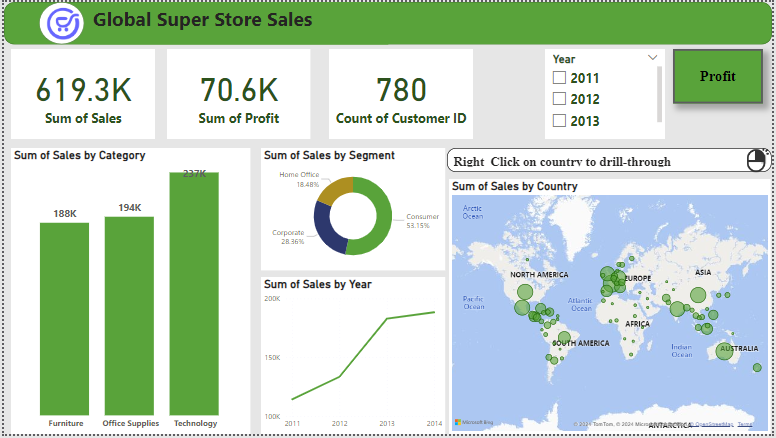

Layout of this report page (visuals, bound fields, positions):
{"tool":"powerbi","page":{"name":"Sales","canvas":[1280,720],"ordinal":0},"visuals":[{"type":"card","fields":{"Values":["Sum(Orders.Sales)"]},"box":[11.5,77.8,240.5,149.8],"z":0},{"type":"card","fields":{"Values":["Sum(Orders.Profit)"]},"box":[272.2,77.8,239,149.8],"z":1000},{"type":"card","fields":{"Values":["Count(Orders.Customer ID)"]},"box":[541.4,77.8,240.5,149.8],"z":2000},{"type":"columnChart","fields":{"Y":["Sum(Orders.Sales)"],"Category":["Orders.Category Hierarchy.Category","Orders.Category Hierarchy.Sub-Category","Orders.Category Hierarchy.Product Name"]},"box":[11.5,243.4,398.9,476.6],"z":3000},{"type":"donutChart","fields":{"Y":["Sum(Orders.Sales)"],"Category":["Orders.Segment"]},"box":[427.7,243.4,306.7,204.5],"z":4000},{"type":"lineChart","fields":{"Category":["Orders.Order Date.Variation.Date Hierarchy.Year","Orders.Order Date.Variation.Date Hierarchy.Quarter","Orders.Order Date.Variation.Date Hierarchy.Month","Orders.Order Date.Variation.Date Hierarchy.Day"],"Y":["Sum(Orders.Sales)"]},"box":[427.7,457.9,306.7,262.1],"z":5000},{"type":"map","fields":{"Category":["Orders.Country"],"Size":["Sum(Orders.Sales)"]},"box":[741.6,295.2,535.7,424.8],"z":6000},{"type":"shape","box":[0,0,1280,70.9],"z":7000},{"type":"textbox","box":[142.8,0,497.2,70.6],"z":8000},{"type":"image","box":[50.7,0,84.4,70.9],"z":9000},{"type":"image","box":[60.5,65.6,74.3,3.5],"z":10000},{"type":"shape","box":[58.8,0,75.6,70.6],"z":11000},{"type":"image","box":[54.7,1.4,87.8,69.1],"z":12000},{"type":"slicer","fields":{"Values":["Orders.Order Date.Variation.Date Hierarchy.Year"]},"box":[901.4,77.8,200.2,149.8],"z":13000},{"type":"actionButton","box":[1114.6,77.8,149.8,90.7],"z":14002},{"type":"textbox","box":[738.7,243.4,541.4,40.3],"z":14003},{"type":"image","box":[1229.8,236.2,50.4,53.3],"z":14004}]}

Visuals, with their boxes in screenshot pixels (x1, y1, x2, y2), scaled from the page's 1280x720 canvas onto the 776x438 screenshot:
card - Sum(Orders.Sales): l=7, t=47, r=153, b=138
card - Sum(Orders.Profit): l=165, t=47, r=310, b=138
card - Count(Orders.Customer ID): l=328, t=47, r=474, b=138
columnChart - Sum(Orders.Sales) x Orders.Category Hierarchy.Category: l=7, t=148, r=249, b=437
donutChart - Sum(Orders.Sales) x Orders.Segment: l=259, t=148, r=445, b=272
lineChart - Orders.Order Date.Variation.Date Hierarchy.Year x Orders.Order Date.Variation.Date Hierarchy.Quarter: l=259, t=279, r=445, b=437
map - Orders.Country x Sum(Orders.Sales): l=450, t=180, r=774, b=437
shape: l=0, t=0, r=775, b=43
textbox: l=87, t=0, r=388, b=43
image: l=31, t=0, r=82, b=43
image: l=37, t=40, r=82, b=42
shape: l=36, t=0, r=81, b=43
image: l=33, t=1, r=86, b=43
slicer - Orders.Order Date.Variation.Date Hierarchy.Year: l=546, t=47, r=668, b=138
actionButton: l=676, t=47, r=767, b=103
textbox: l=448, t=148, r=775, b=173
image: l=746, t=144, r=775, b=176
